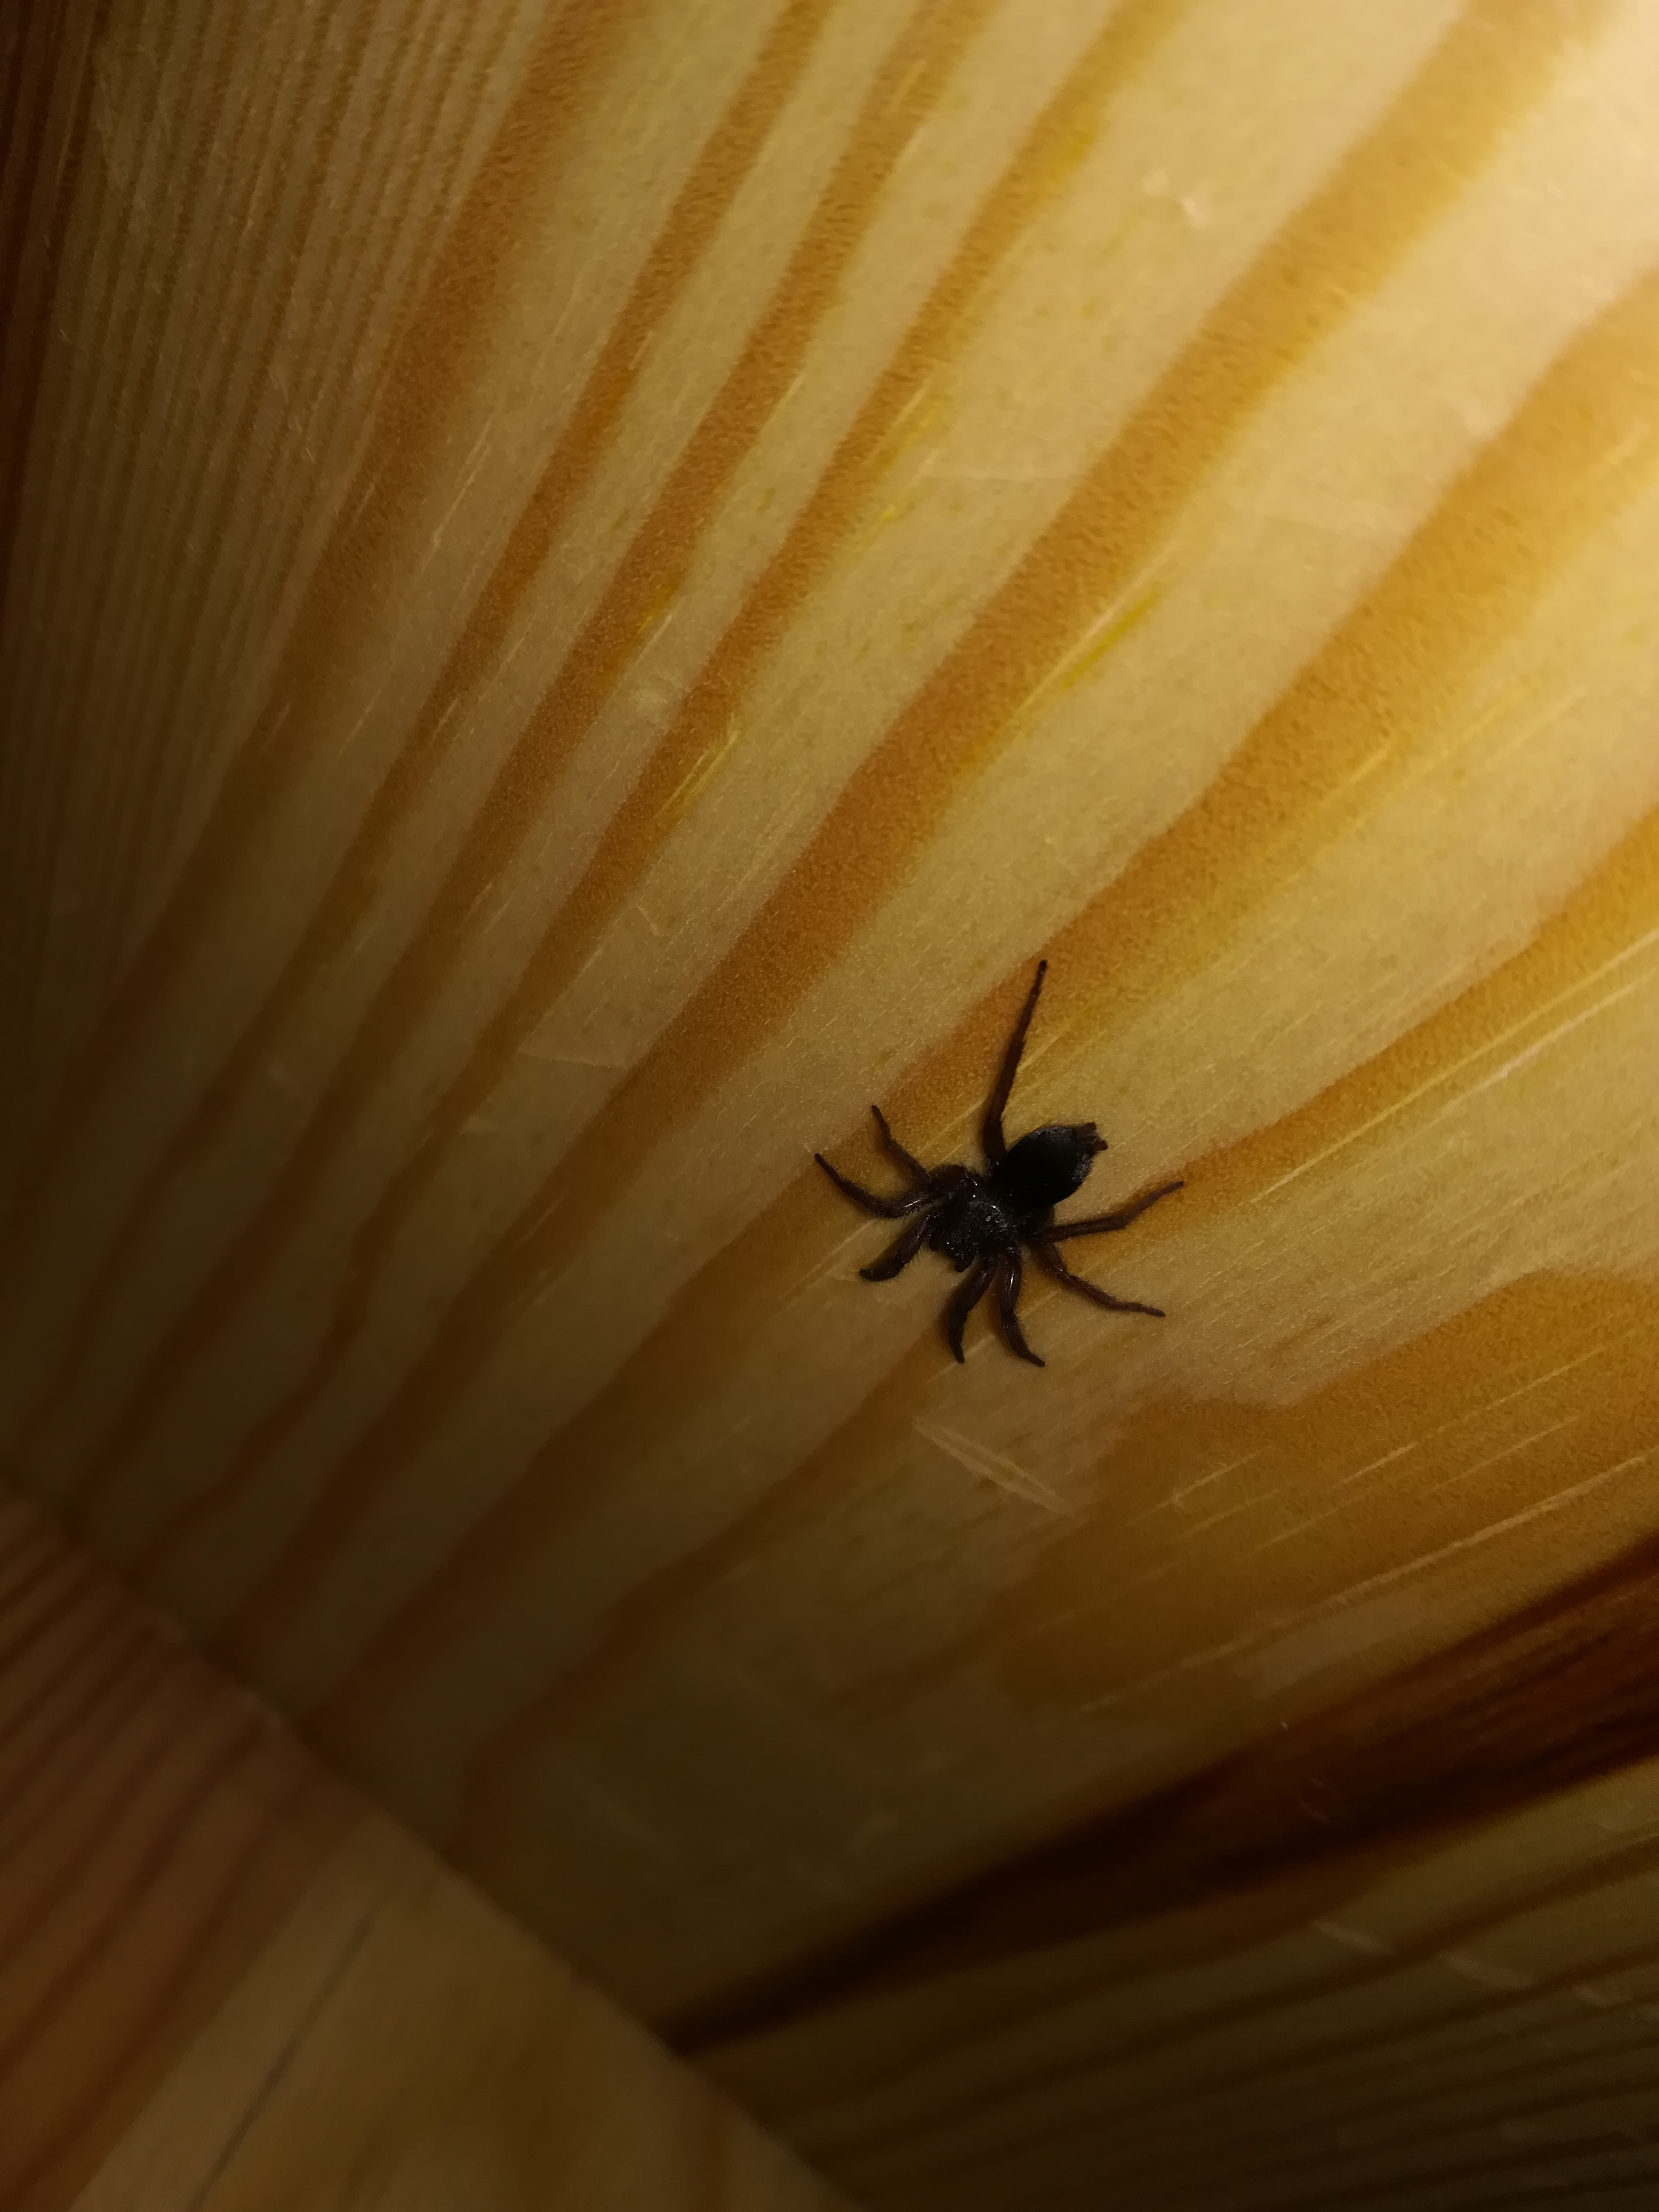spider: (769, 921, 1248, 1400)
